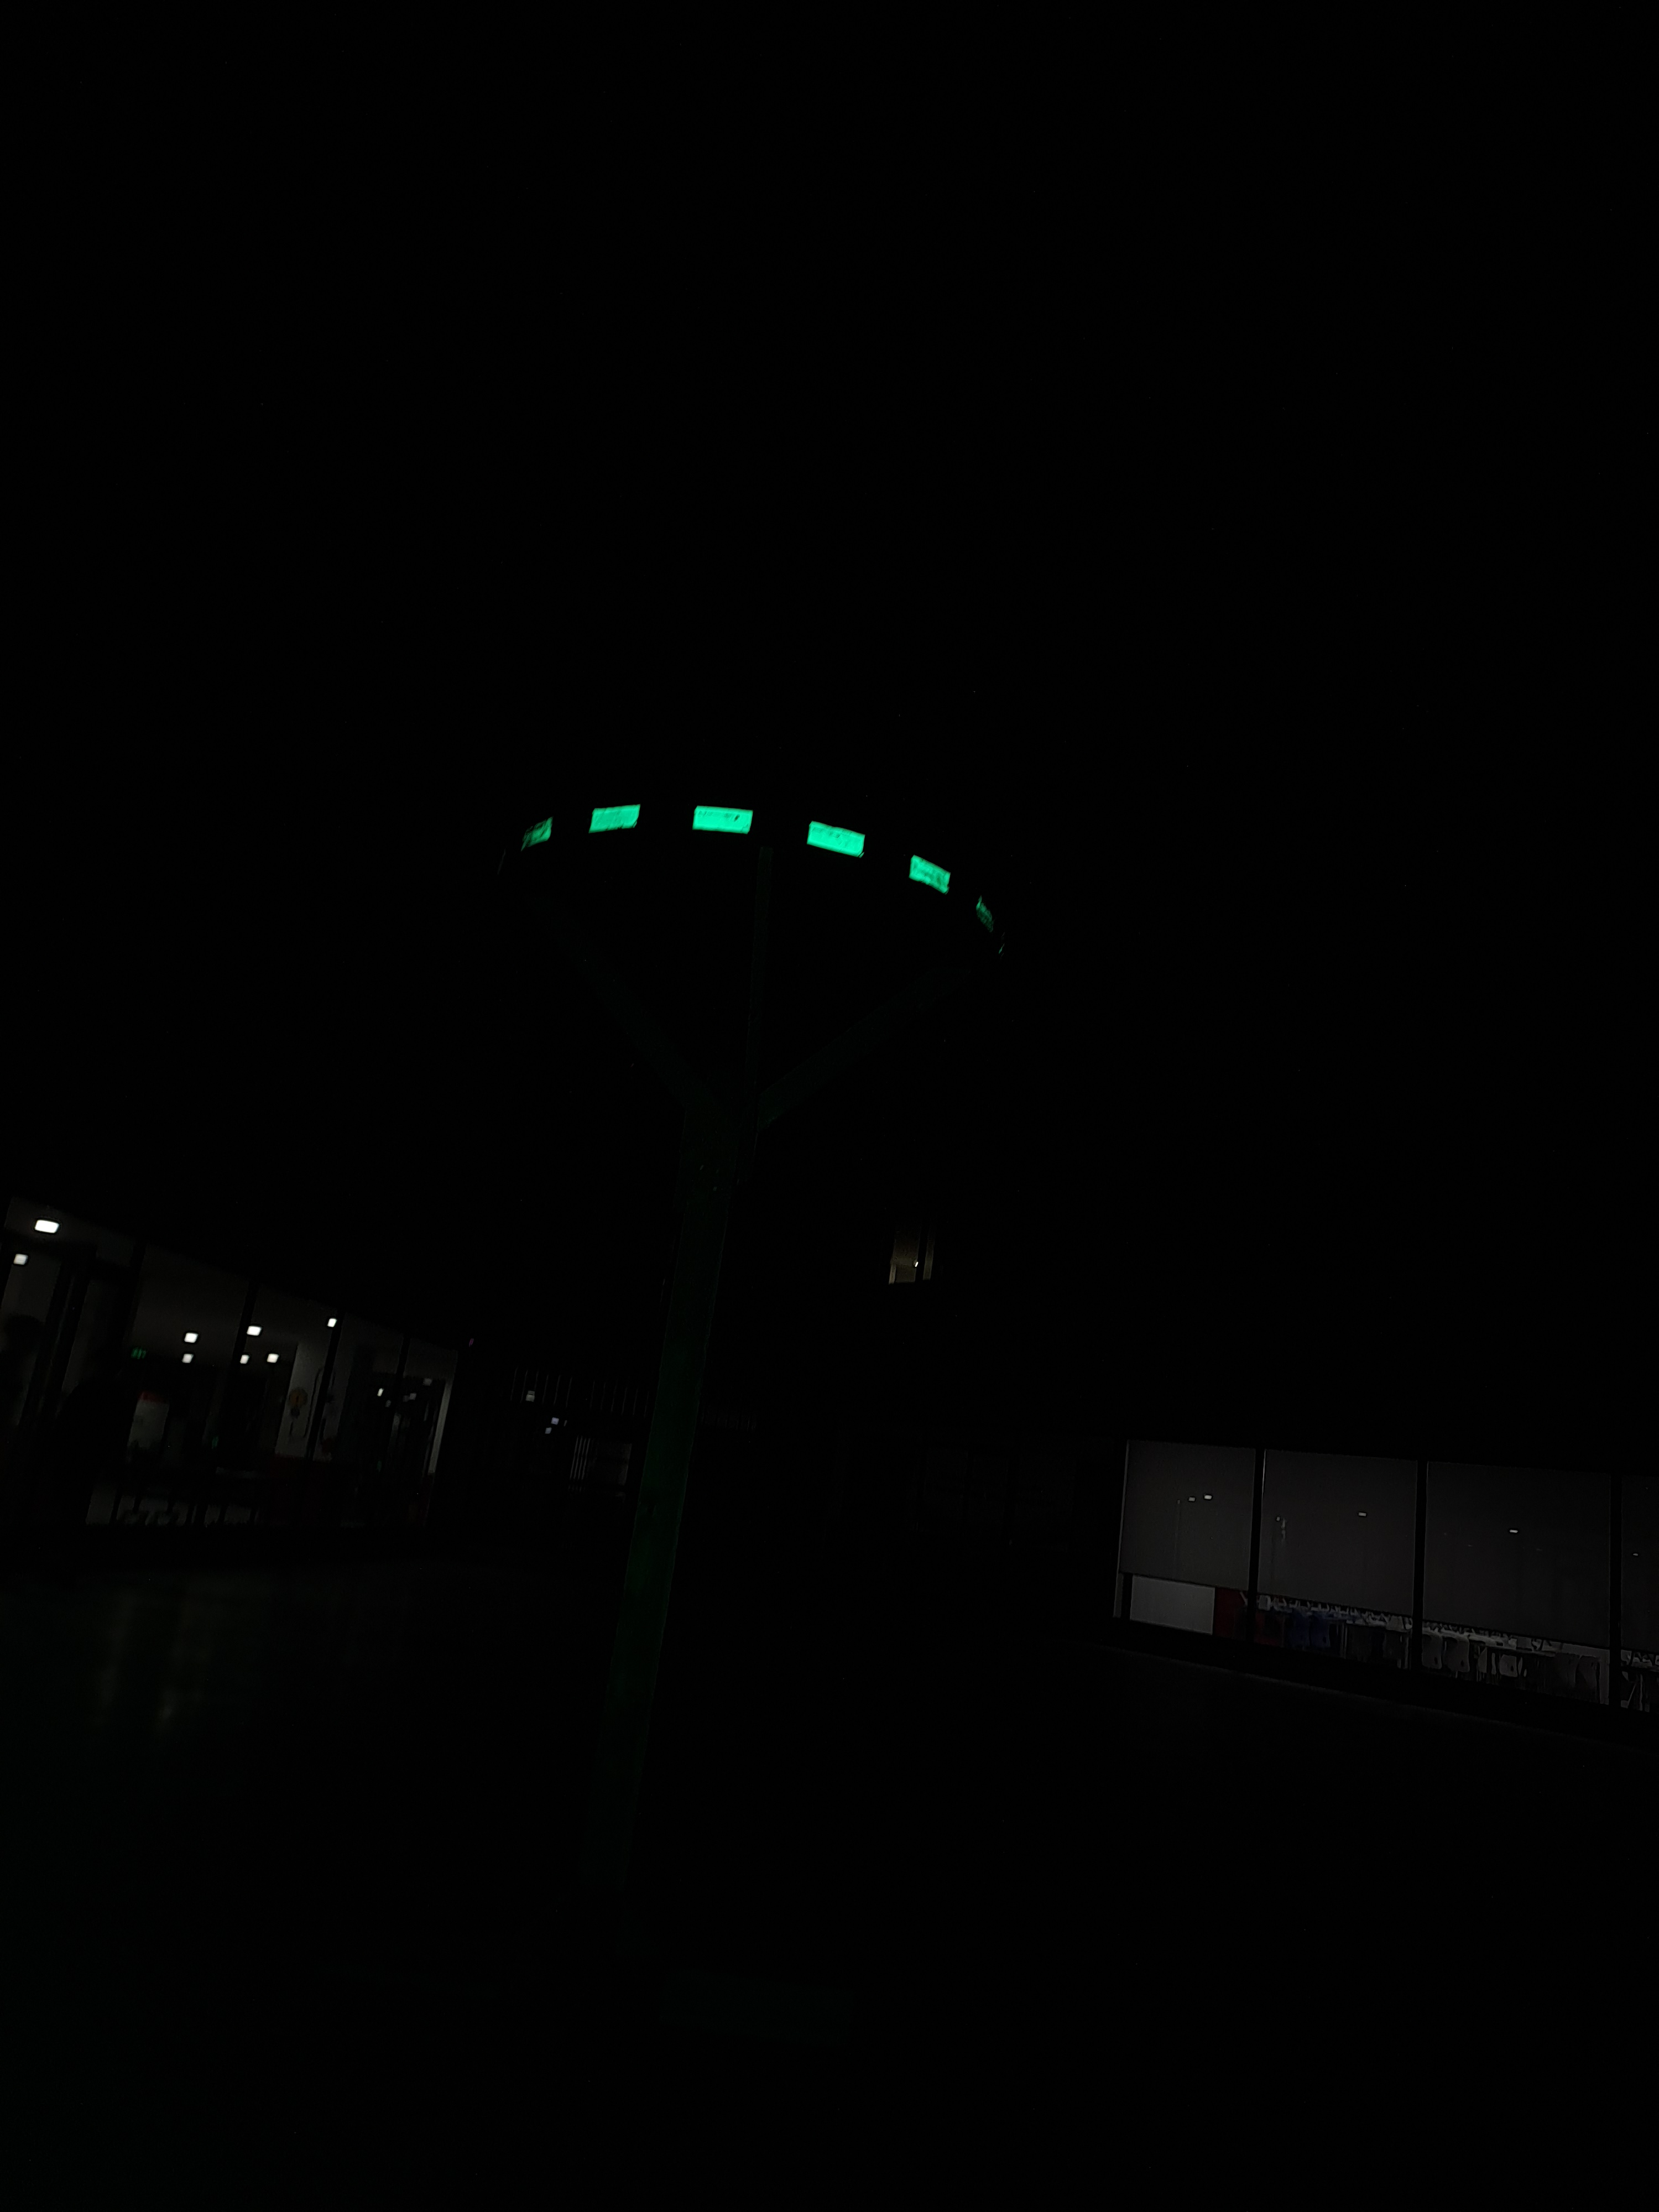hoop: (518, 791, 960, 914)
